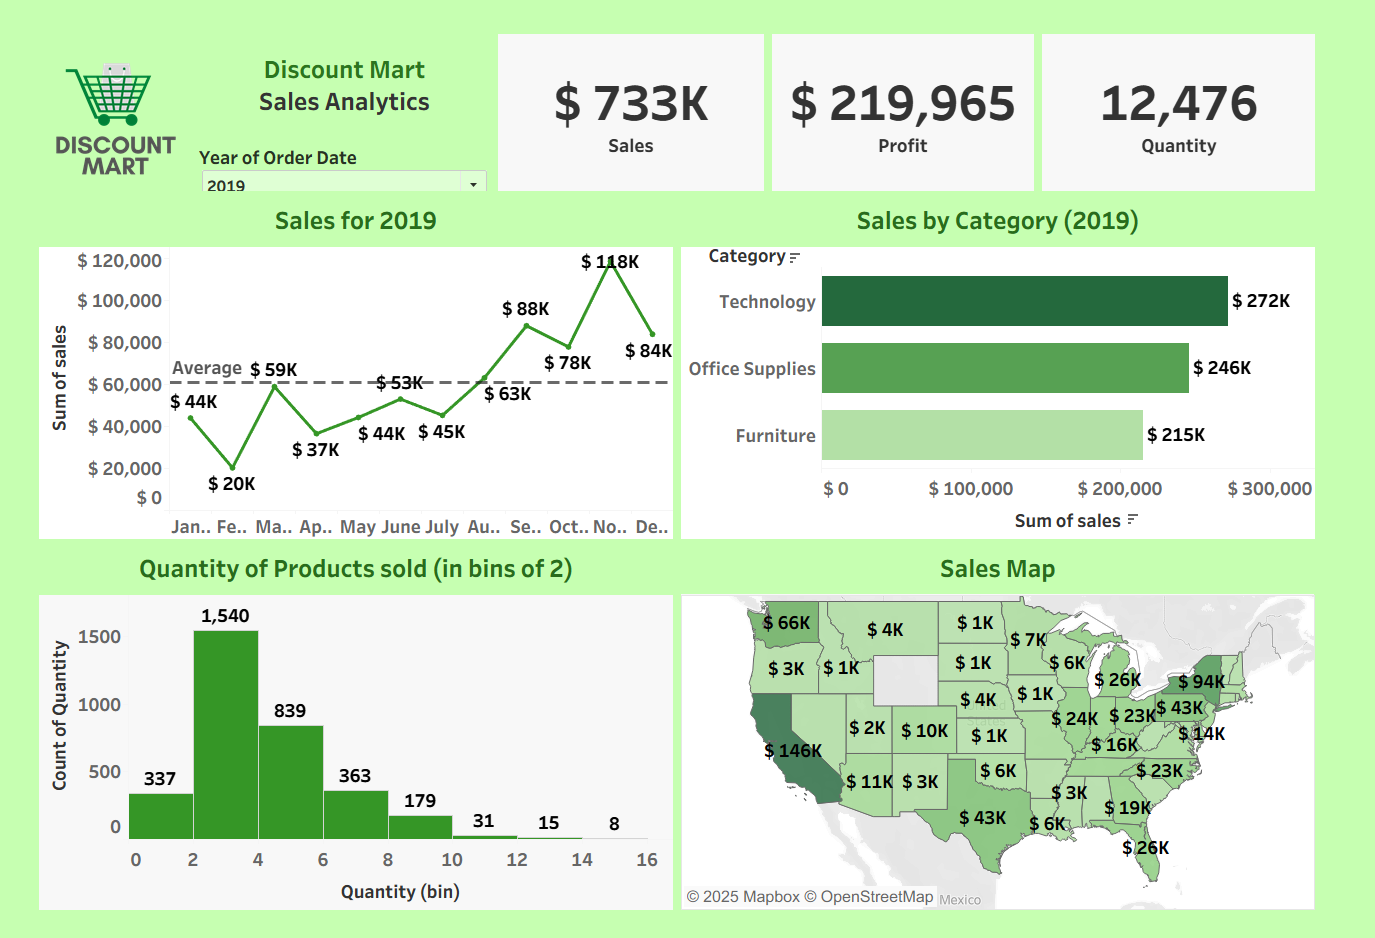

The dashboard page shown, as its layout file describes it:
{"tool":"tableau","page":{"name":"Dashboard","canvas":[1300,900],"ordinal":0},"visuals":[{"type":"image","param":"C:/Users/octav/Desktop/Discount Mart/Imagenes/mart.png","box":[8,8,160.5,165]},{"type":"text","box":[168.5,8,298.5,110]},{"type":"worksheet","title":"Sales Card","mark":"Automatic","box":[467,8,274,165]},{"type":"worksheet","title":"Profit Card","mark":"Automatic","box":[741,8,270,165]},{"type":"worksheet","title":"Quantity card","mark":"Automatic","box":[1011,8,281,165]},{"type":"filter","title":"Yearly Sales","param":"[federated.0rap3851yy2xbr16puxt3093zuy9].[yr:Order Date:ok]","box":[168.5,118,298.5,55]},{"type":"worksheet","title":"Yearly Sales","mark":"Automatic","rows":["Calculation_1536853412539236352"],"cols":["Order Date"],"box":[8,173,642,348]},{"type":"worksheet","title":"Sales by Category","mark":"Automatic","rows":["Category"],"cols":["Calculation_1536853412539236352"],"box":[650,173,642,348]},{"type":"worksheet","title":"Products sold per order","mark":"Automatic","rows":["Quantity"],"cols":["Quantity (bin)"],"box":[8,521,642,371]},{"type":"worksheet","title":"Sales map","mark":"Automatic","box":[650,521,642,371]}]}

Visuals, with their boxes in screenshot pixels (x1, y1, x2, y2), scaled from the page's 1300x900 canvas onto the 1375x938 screenshot:
image: 8,8,178,180
text: 178,8,494,123
"Sales Card" worksheet: 494,8,784,180
"Profit Card" worksheet: 784,8,1069,180
"Quantity card" worksheet: 1069,8,1367,180
"Yearly Sales" filter: 178,123,494,180
"Yearly Sales" worksheet: 8,180,688,543
"Sales by Category" worksheet: 688,180,1367,543
"Products sold per order" worksheet: 8,543,688,930
"Sales map" worksheet: 688,543,1367,930
